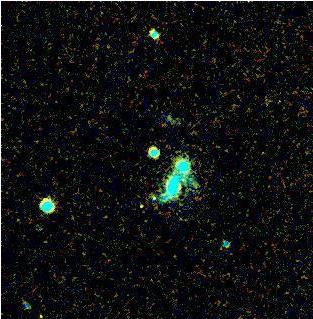star: (166, 167, 196, 197)
